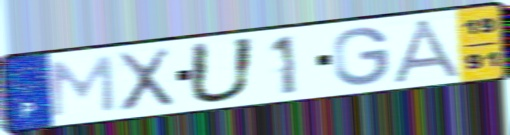1: (268, 32, 301, 96)
A: (387, 17, 467, 86)
G: (331, 25, 392, 88)
M: (47, 53, 118, 119)
U: (184, 35, 259, 106)
X: (113, 45, 177, 115)
